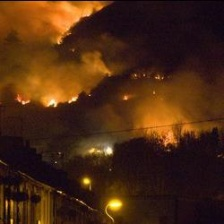fire: (1, 38, 224, 143)
